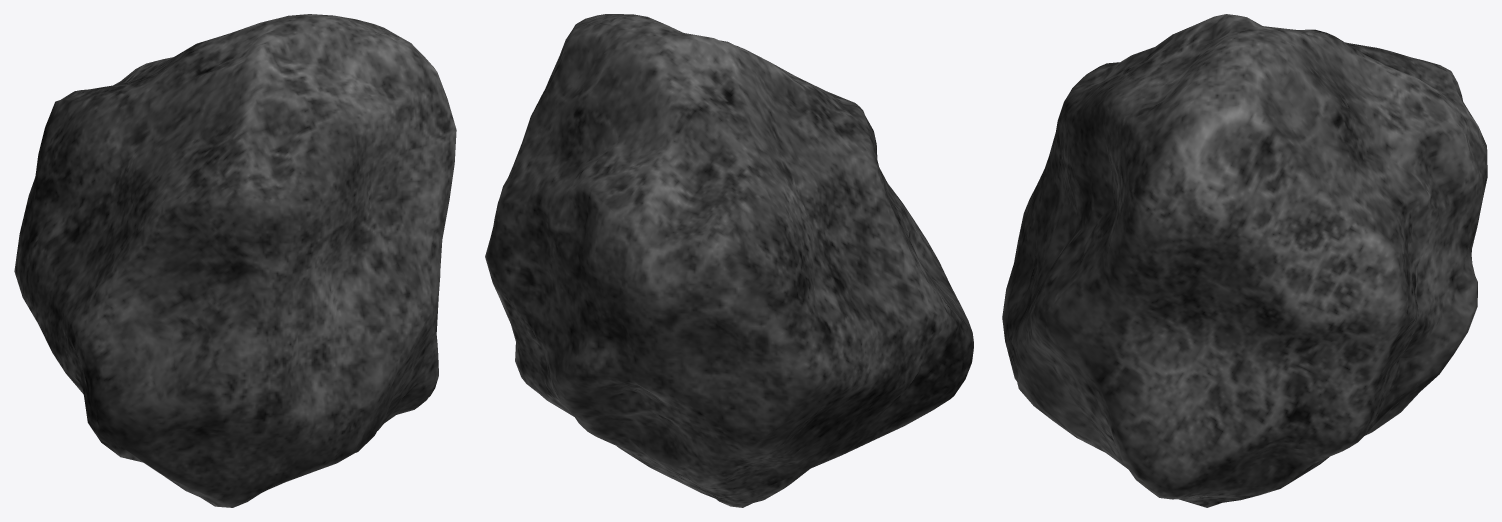
3 renders of one model, left to right at view 1: azimuth 30°, elevation 25°; view 2: azimuth 150°, elevation 25°; view 3: azimuth 270°, elevation 25°, orthographic. The views are drawn at different scales.
Visible parts, largest first — view 1: Asteroid_no_8_Material #3_0; view 2: Asteroid_no_8_Material #3_0; view 3: Asteroid_no_8_Material #3_0.
Part boxes in pixels (x1=…): Asteroid_no_8_Material #3_0: x1=14, y1=14, x2=456, y2=507; Asteroid_no_8_Material #3_0: x1=485, y1=14, x2=973, y2=507; Asteroid_no_8_Material #3_0: x1=1002, y1=14, x2=1487, y2=507.
Size of the model in its own units: 7.91 by 8.91 by 7.89.
1 material, 1 textured.
